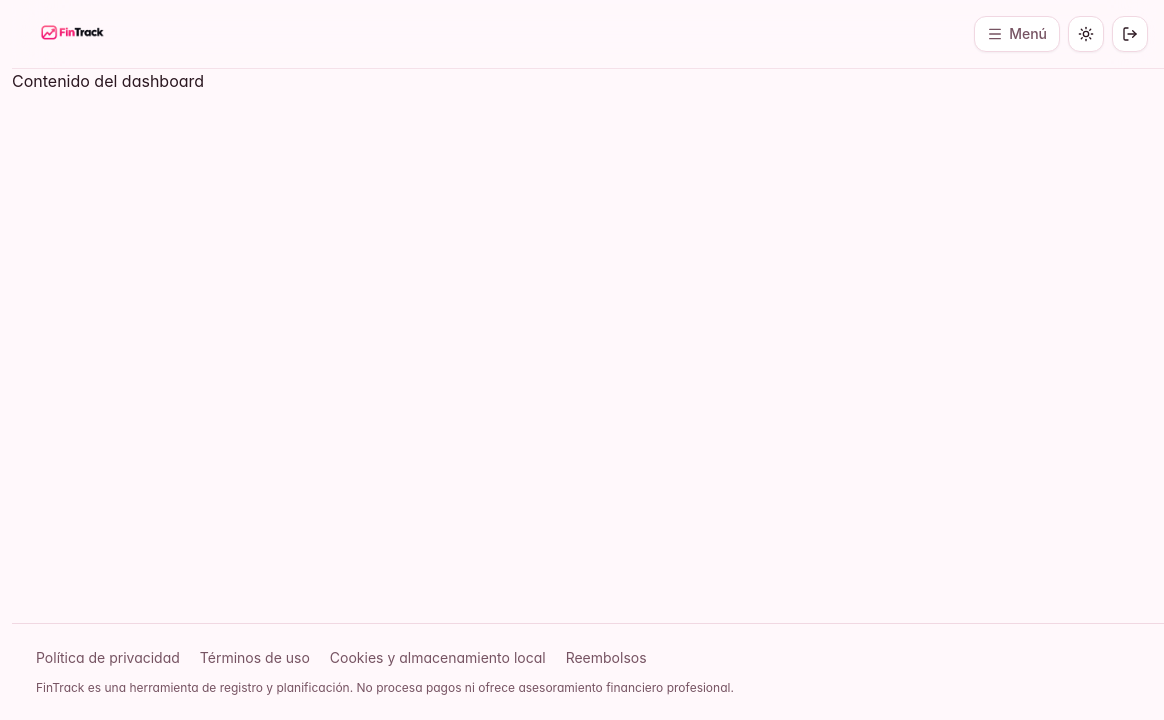
AppLayout › navegar desde «Menú» cambia la página hija y cierra el panel
Click the button "Menú".
click(1017, 34)  # box [974,16,1060,52]
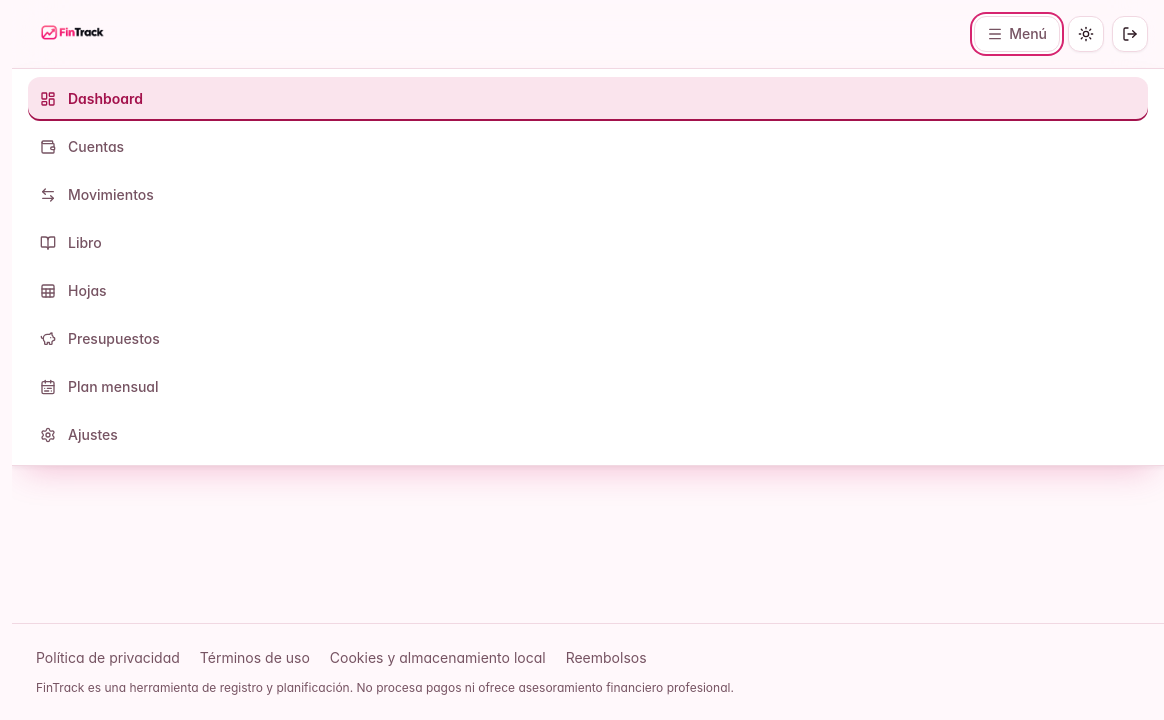
Click the link "Ajustes".
click(79, 434)  # box [40,426,118,443]
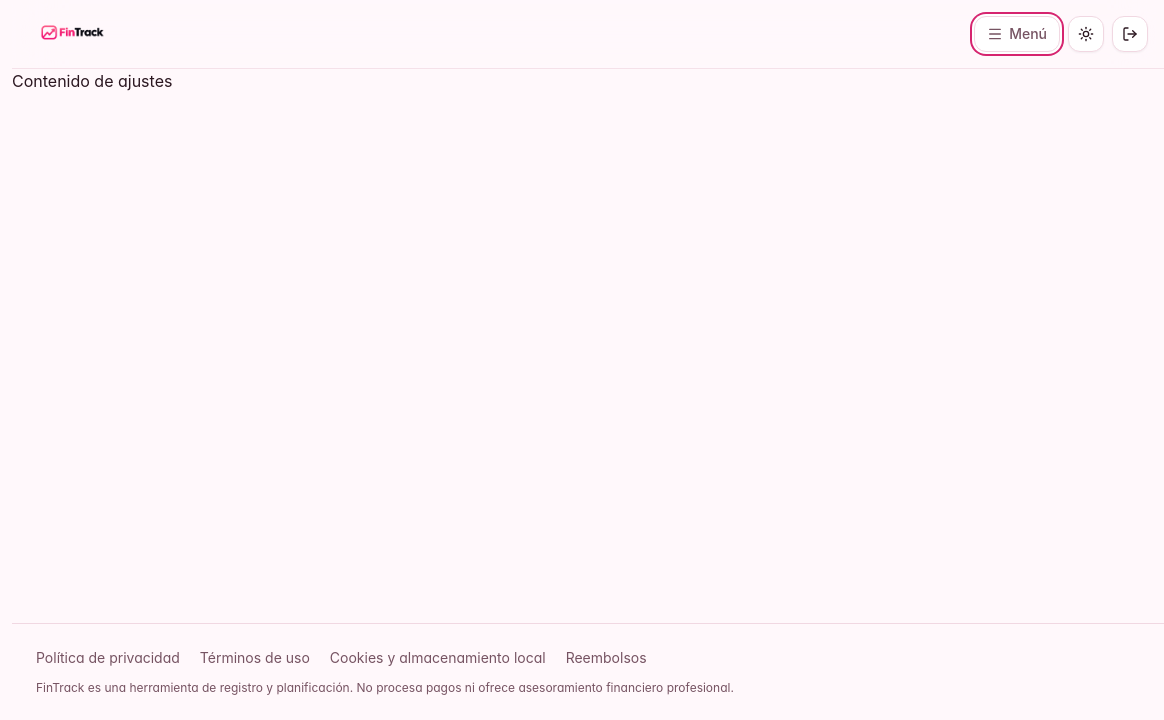
Check: the text "Contenido de ajustes" is shown, box [12,71,172,91]
